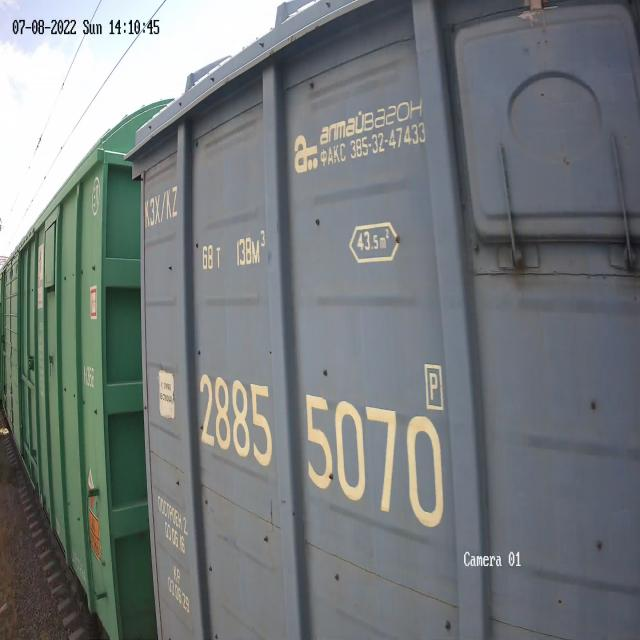boxcar: (121, 0, 640, 640), (0, 94, 153, 640)
